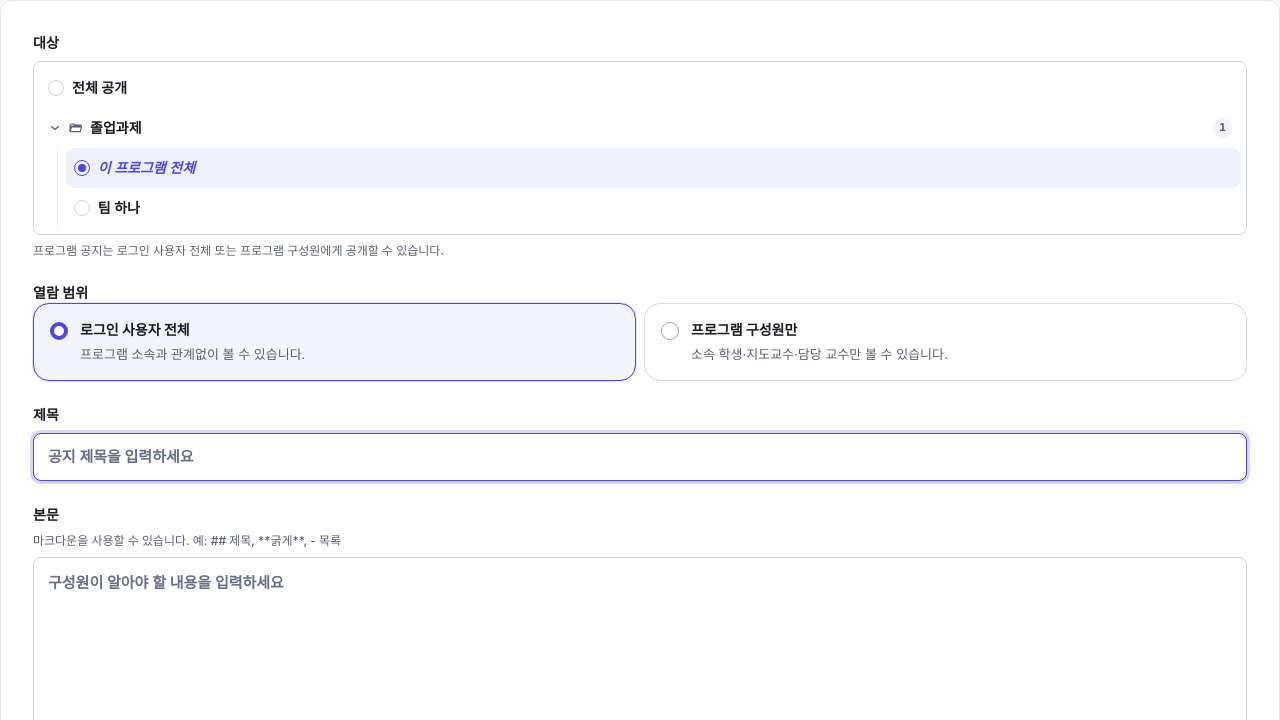
Test: 공지 작성 열람 범위 › 프로그램에서 팀 대상으로 바꾸면 구성원 전용으로 정규화한다
The image size is (1280, 720).
Click the radio button labelled "프로그램 구성원만 소속 학생·지도교수·담당 교수만 볼 수 있습니다." at (744, 330), box [644,303,1247,381]
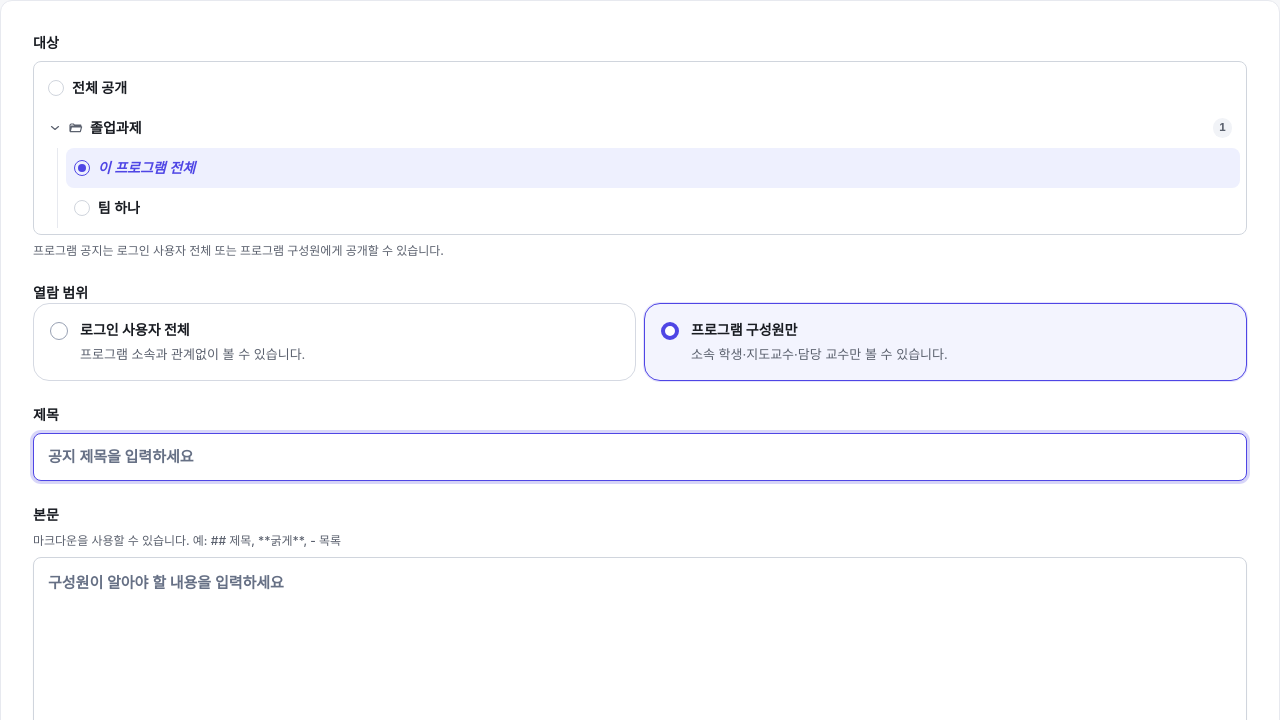
Click the radio button labelled "팀 하나" at (119, 208), box [66,188,1240,228]
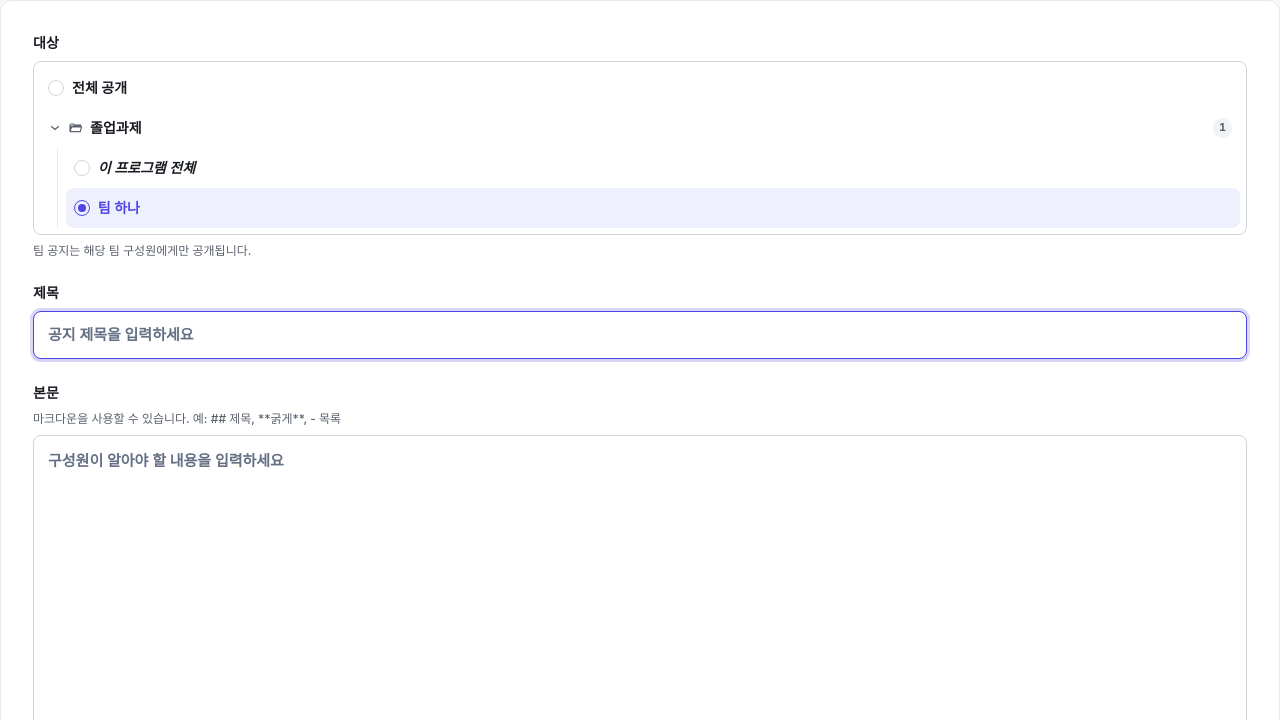
Expected: the element named "target" holds "team:team-1", [33,61,1247,235]
Now the text "열람 범위" is gone
